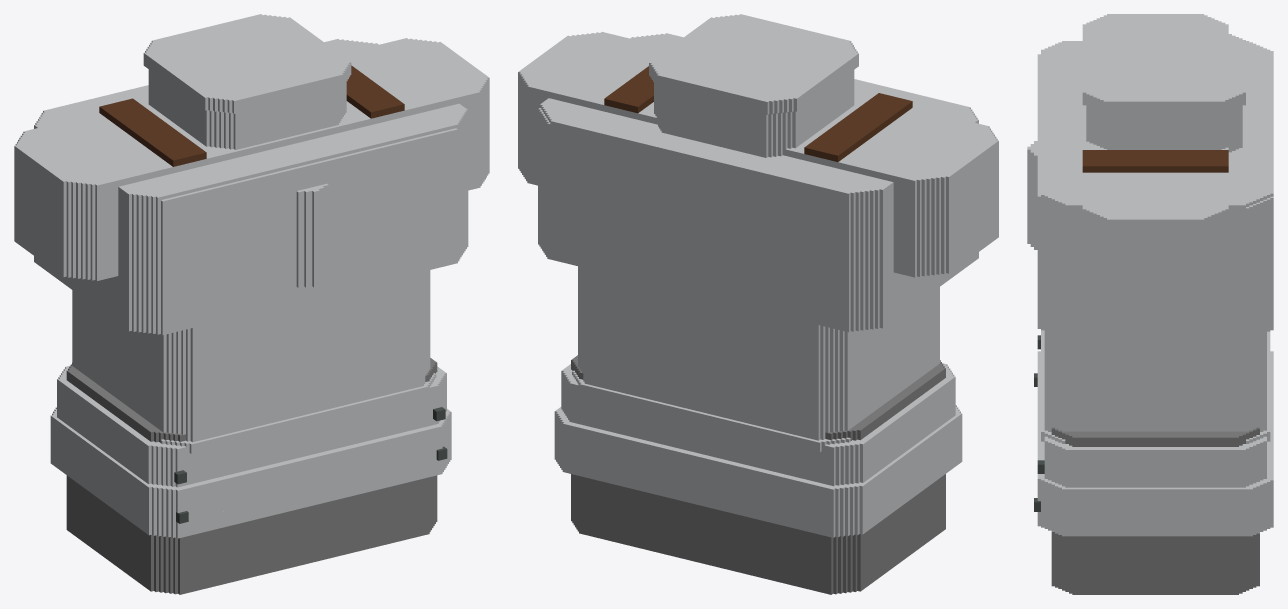
File: armor_lc_plate_worn_body.glb
The picture shows the model from 3 angles, left to right: view 1: azimuth 30°, elevation 25°; view 2: azimuth 150°, elevation 25°; view 3: azimuth 270°, elevation 25°; orthographic projection. The views are drawn at different scales.
Visible parts, largest first — view 1: armor_lc_plate_worn_body:compound; view 2: armor_lc_plate_worn_body:compound; view 3: armor_lc_plate_worn_body:compound.
Part boxes in pixels (x1=…): armor_lc_plate_worn_body:compound: x1=14, y1=14, x2=489, y2=594; armor_lc_plate_worn_body:compound: x1=518, y1=14, x2=998, y2=594; armor_lc_plate_worn_body:compound: x1=1027, y1=14, x2=1273, y2=594.
Size of the model in its own units: 0.56 by 0.584 by 0.284.
